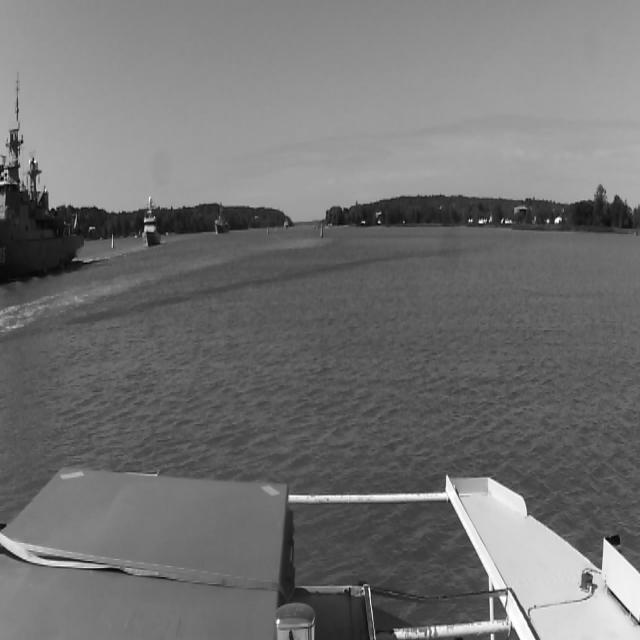buoy: (321, 223, 323, 237)
ship: (0, 114, 92, 282), (143, 196, 161, 248), (213, 199, 229, 235), (284, 220, 288, 228)
